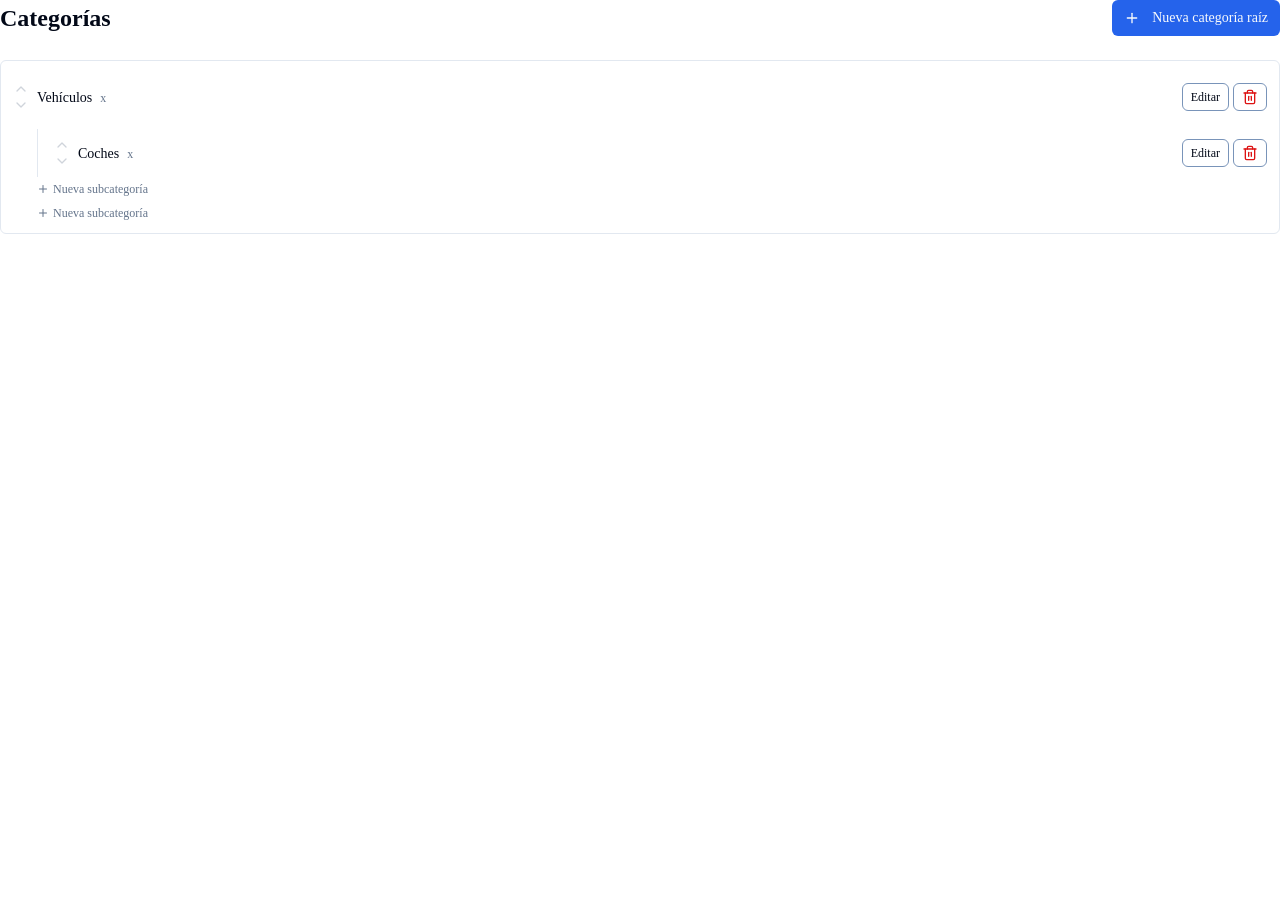
Test case: Admin categorías — moderación previa (M5) › NO MIENTE: una hija de una categoría marcada muestra la HERENCIA, no su falso propio
Check: the text "Coches" is shown, box [78, 146, 119, 161]
Step 1. Click the button "Editar" in the row of "Coches" → (1205, 153), box [1182, 139, 1229, 167]
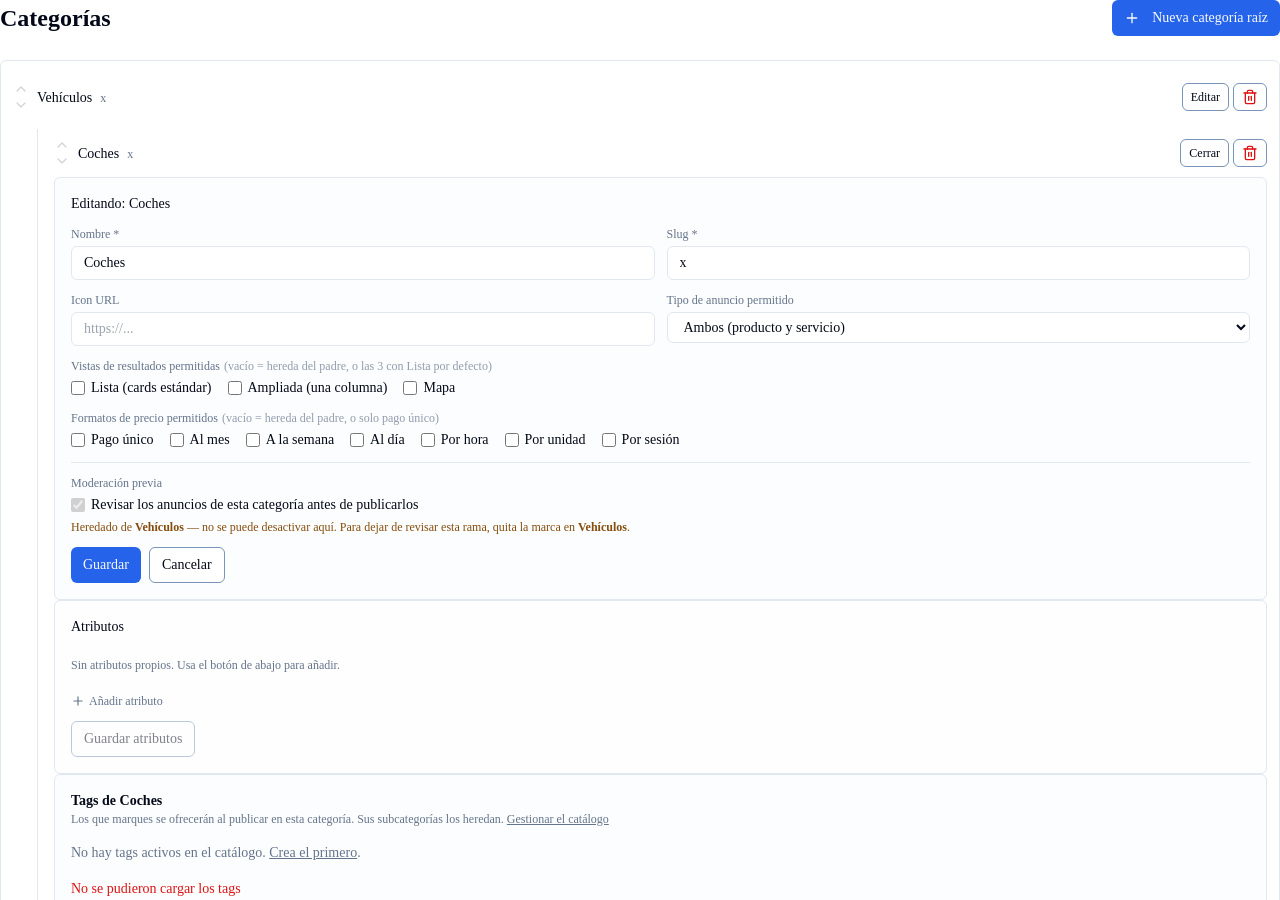
Check: the checkbox with test id "requires-review-checkbox" is checked, box [71, 498, 85, 512]
Check: the checkbox with test id "requires-review-checkbox" is disabled, box [71, 498, 85, 512]
Check: the element with test id "requires-review-inherited" shows "Vehículos", box [135, 520, 184, 534]
